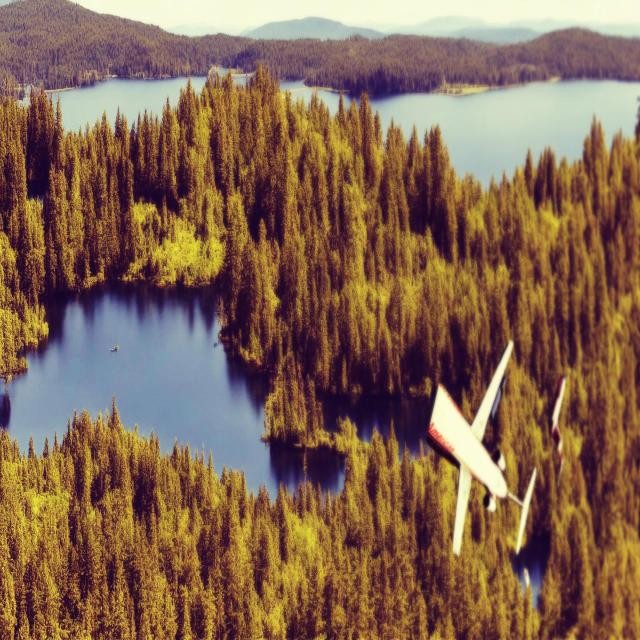airplane: (425, 338, 537, 556), (548, 372, 567, 488)
